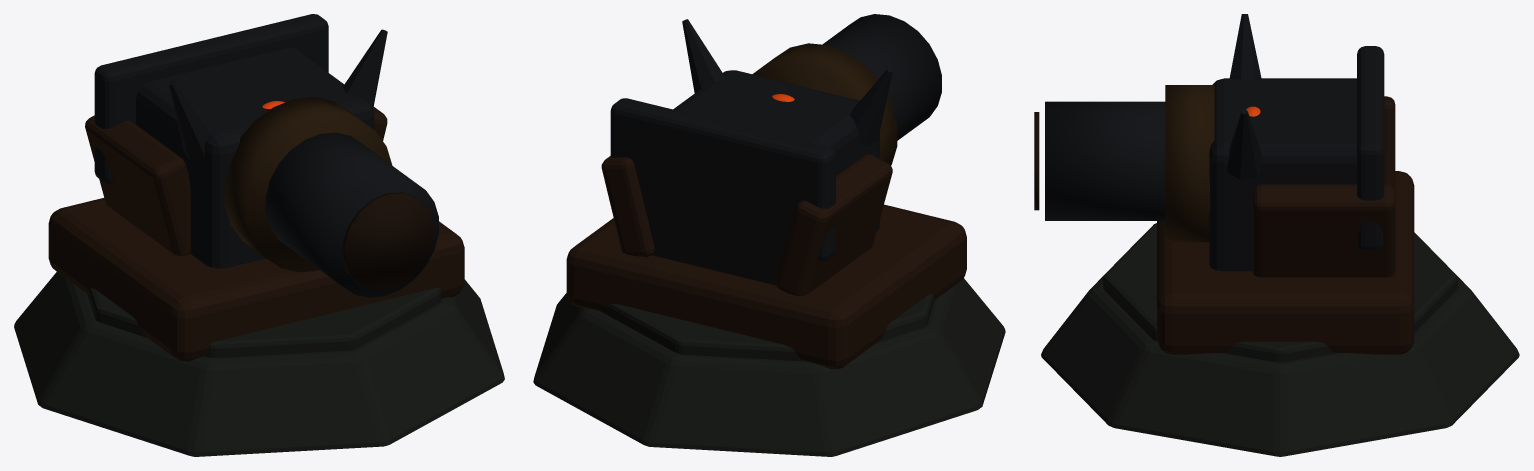
File: TowerChaos1_pose.obj
The picture shows the model from 3 angles, left to right: view 1: azimuth 30°, elevation 25°; view 2: azimuth 150°, elevation 25°; view 3: azimuth 270°, elevation 25°; orthographic projection. The views are drawn at different scales.
Parts seen in each view (by area): view 1: black_stone_furnace_base_lower_course, oak_fire_cradle, iron_furnace_jacket, iron_blast_barrel, bronze_blast_collar, iron_furnace_shield, oak_bellows_arm, black_stone_furnace_base_upper_course, black_fire_mouth, iron_heat_fin, iron_heat_fin.001; view 2: black_stone_furnace_base_lower_course, oak_fire_cradle, iron_furnace_jacket, iron_furnace_shield, oak_bellows_arm, iron_blast_barrel, black_stone_furnace_base_upper_course, bronze_blast_collar, oak_bellows_arm.001, iron_heat_fin, iron_heat_fin.001; view 3: black_stone_furnace_base_lower_course, oak_fire_cradle, iron_furnace_jacket, iron_blast_barrel, oak_bellows_arm.001, black_stone_furnace_base_upper_course, bronze_blast_collar, iron_furnace_shield, iron_heat_fin.001, iron_heat_fin, oak_bellows_arm, black_fire_mouth.
Part boxes in pixels (<box>): black_stone_furnace_base_lower_course: <box>14,272,504,456</box>; oak_fire_cradle: <box>48,198,464,361</box>; iron_furnace_jacket: <box>136,48,374,268</box>; iron_blast_barrel: <box>265,132,438,297</box>; bronze_blast_collar: <box>224,97,392,272</box>; iron_furnace_shield: <box>94,14,328,183</box>; oak_bellows_arm: <box>85,115,190,255</box>; black_stone_furnace_base_upper_course: <box>87,287,441,357</box>; black_fire_mouth: <box>342,192,434,290</box>; iron_heat_fin: <box>168,80,213,160</box>; iron_heat_fin.001: <box>342,29,387,108</box>; black_stone_furnace_base_lower_course: <box>533,278,1005,456</box>; oak_fire_cradle: <box>566,204,966,369</box>; iron_furnace_jacket: <box>648,70,879,285</box>; iron_furnace_shield: <box>610,98,835,261</box>; oak_bellows_arm: <box>775,154,892,296</box>; iron_blast_barrel: <box>822,14,941,140</box>; black_stone_furnace_base_upper_course: <box>601,294,934,361</box>; bronze_blast_collar: <box>752,43,897,165</box>; oak_bellows_arm.001: <box>601,156,654,257</box>; iron_heat_fin: <box>849,68,892,145</box>; iron_heat_fin.001: <box>682,19,725,92</box>; black_stone_furnace_base_lower_course: <box>1041,243,1519,456</box>; oak_fire_cradle: <box>1157,171,1414,354</box>; iron_furnace_jacket: <box>1209,78,1356,271</box>; iron_blast_barrel: <box>1045,101,1165,220</box>; oak_bellows_arm.001: <box>1253,184,1395,277</box>; black_stone_furnace_base_upper_course: <box>1103,223,1457,362</box>; bronze_blast_collar: <box>1165,85,1214,242</box>; iron_furnace_shield: <box>1357,46,1384,251</box>; iron_heat_fin.001: <box>1227,109,1261,179</box>; iron_heat_fin: <box>1229,14,1261,80</box>; oak_bellows_arm: <box>1384,96,1395,192</box>; black_fire_mouth: <box>1034,112,1039,210</box>.
Size of the model in its own units: 1.75 by 1.19 by 1.77.
